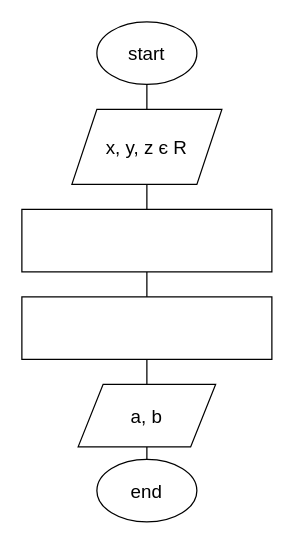
Some shapes in this 294 by 544 pixel diagram are drawn without their labels. Each missing label, with the centre of its shape:
a = (0.5 / sin( π + x)) + sin^2((x + y) / z): (146,240)
b = cos(a*a * x) / (2 * y * z): (146,327)
